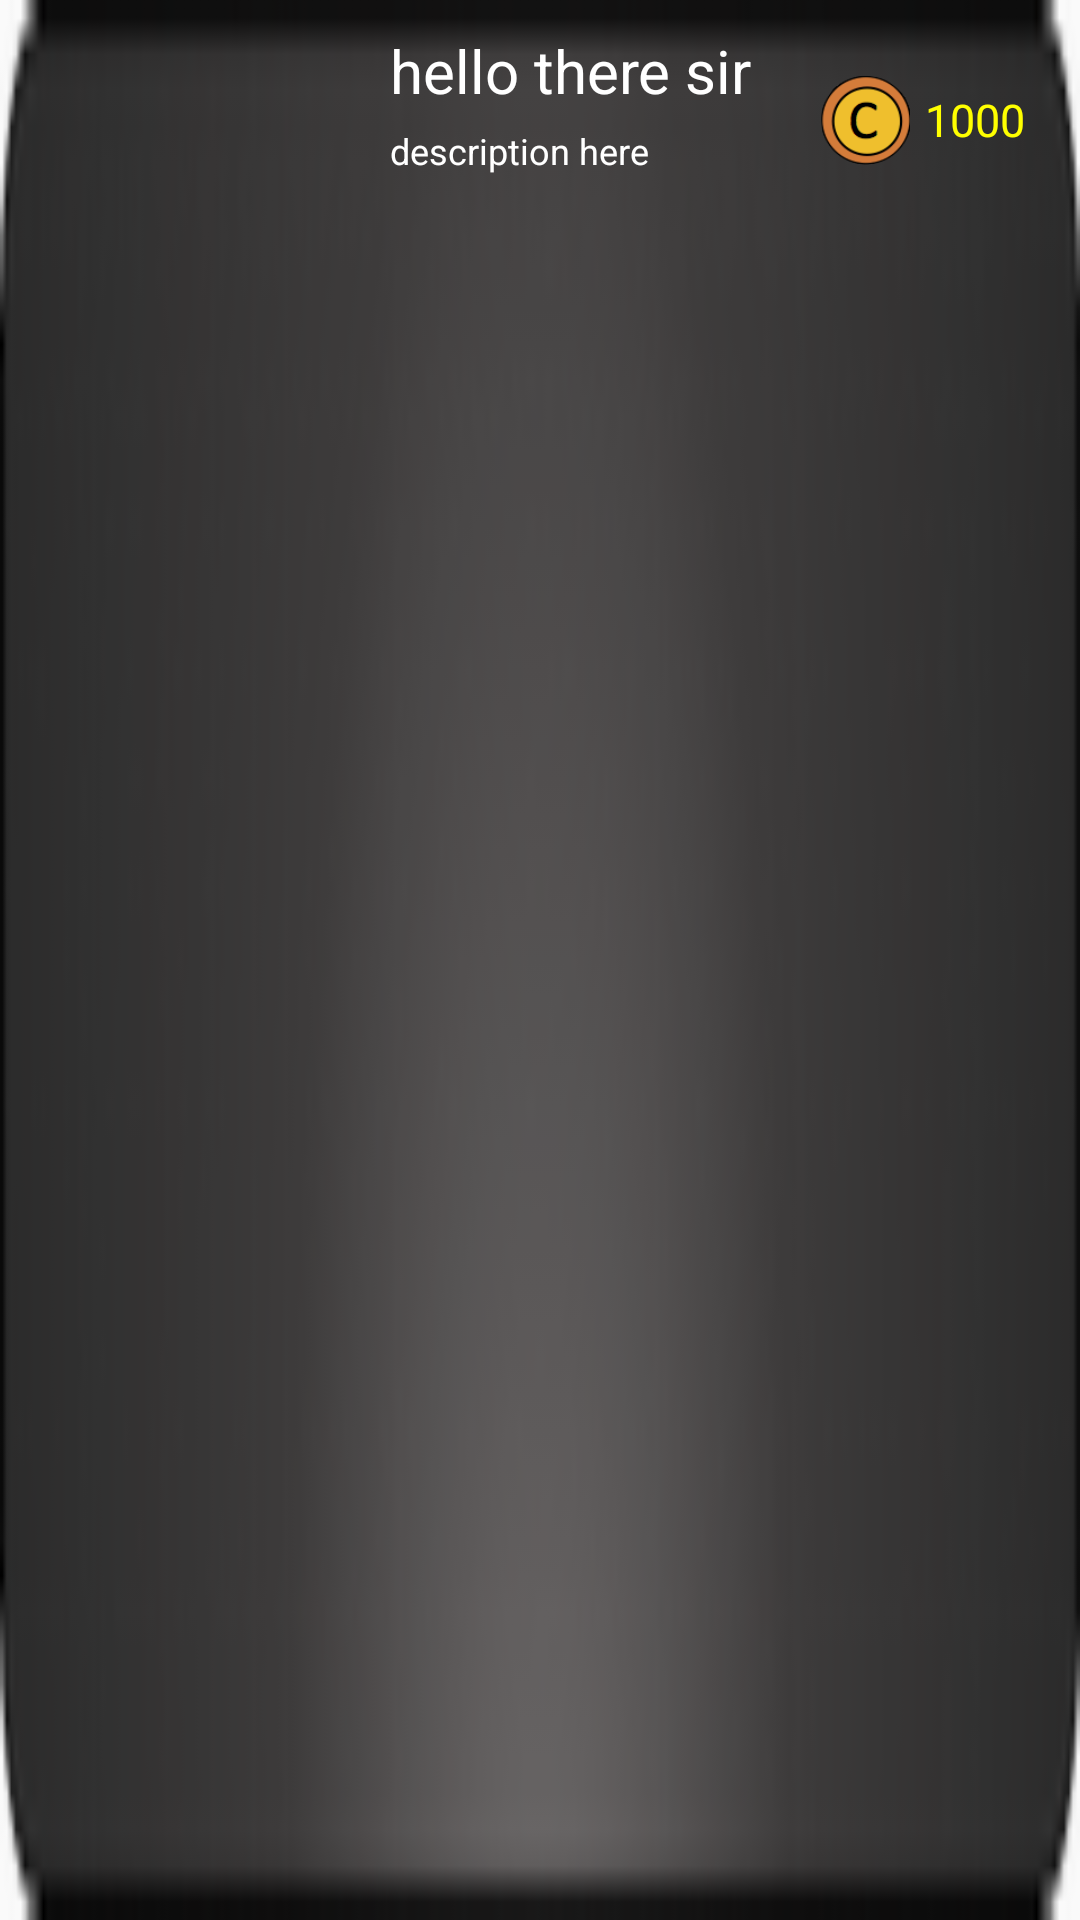

Screen size 1080px×1920px. Icon name, then its box in pixels as Rect(x1, y1, x2, y2):
coin: Rect(821, 76, 910, 164)
